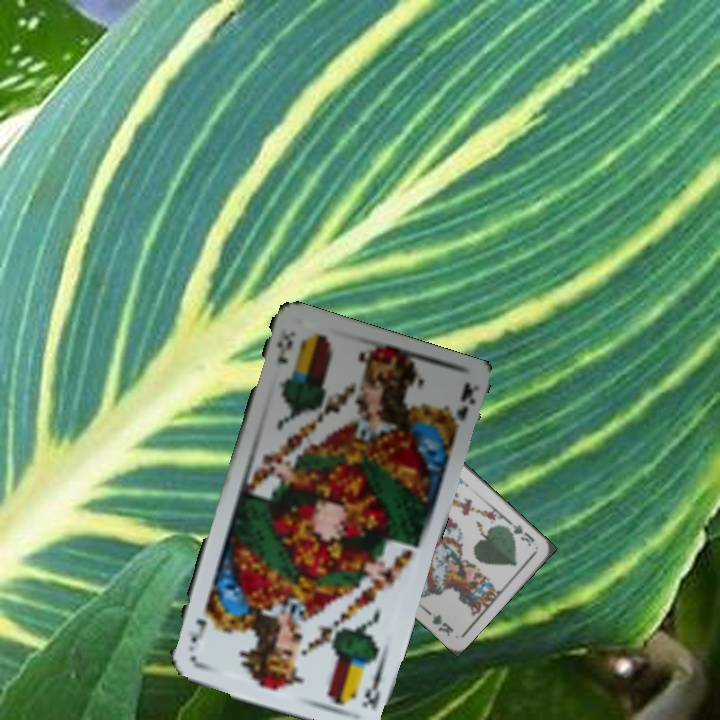EK: (358, 658, 387, 713), (272, 325, 300, 367)
GK: (501, 517, 537, 549)
